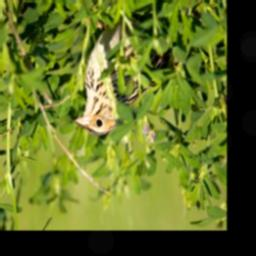Sparrow: (71, 9, 177, 137)
